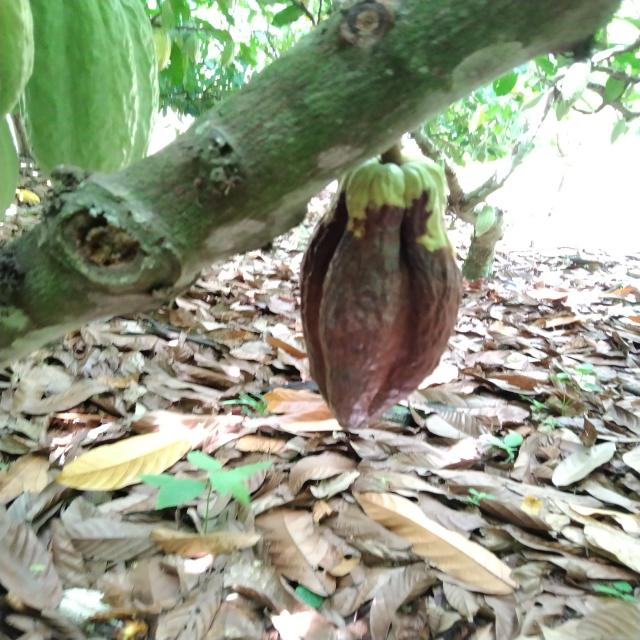Fitoftora: (285, 161, 462, 426)
Sana: (25, 0, 154, 171)
